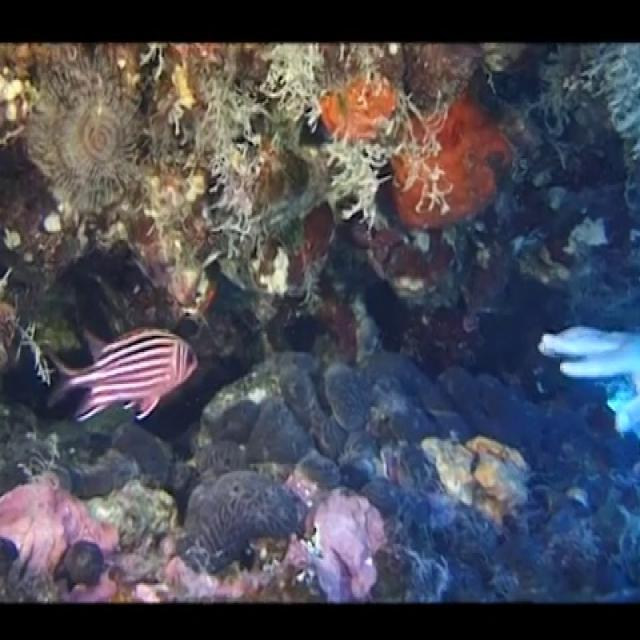Asker Baligi: (40, 323, 200, 425)
